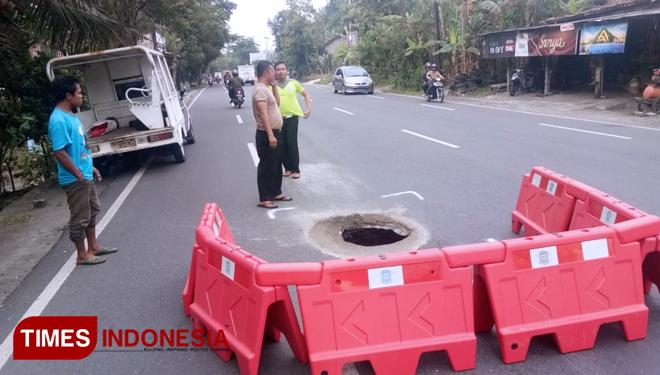Pothole: (309, 199, 430, 248)
